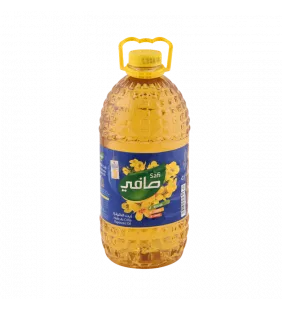Promotion: (92, 28, 196, 276)
